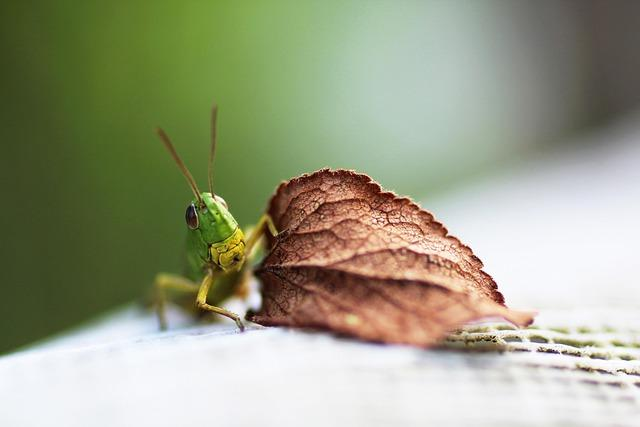Non_Gorille: (134, 73, 534, 379)
